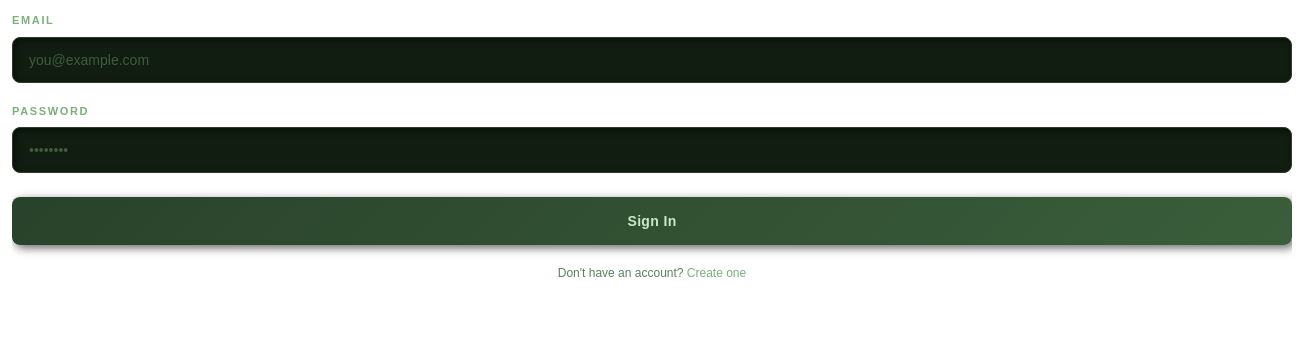
Scenario: Email/Password Authentication — LoginForm › shows an error message and does not navigate on invalid credentials
Type "tester@example.com" into the field labelled "Email" at (652, 60), box [12, 36, 1292, 82]
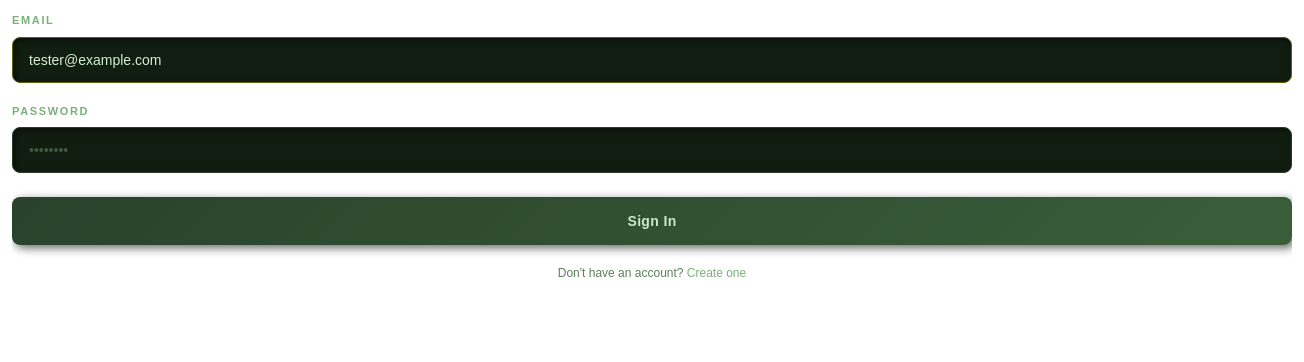
Type "wrongPassword" into the password field labelled "Password" at (652, 150), box [12, 127, 1292, 173]
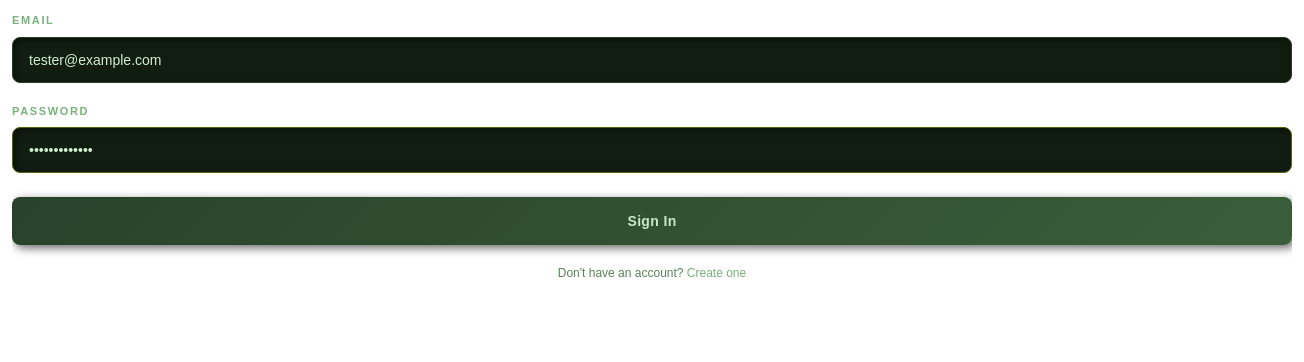
Click the button "Sign In" at (652, 221), box [12, 197, 1292, 245]
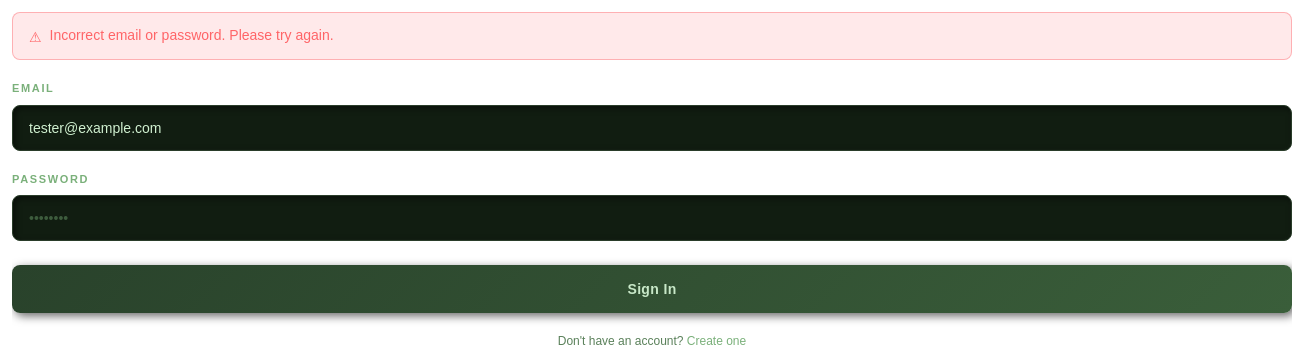
Expected: the message "⚠ Incorrect email or password. Please try again." is shown, [12, 12, 1292, 60]
Expected: the message shows "Incorrect email or password", [50, 27, 334, 43]
